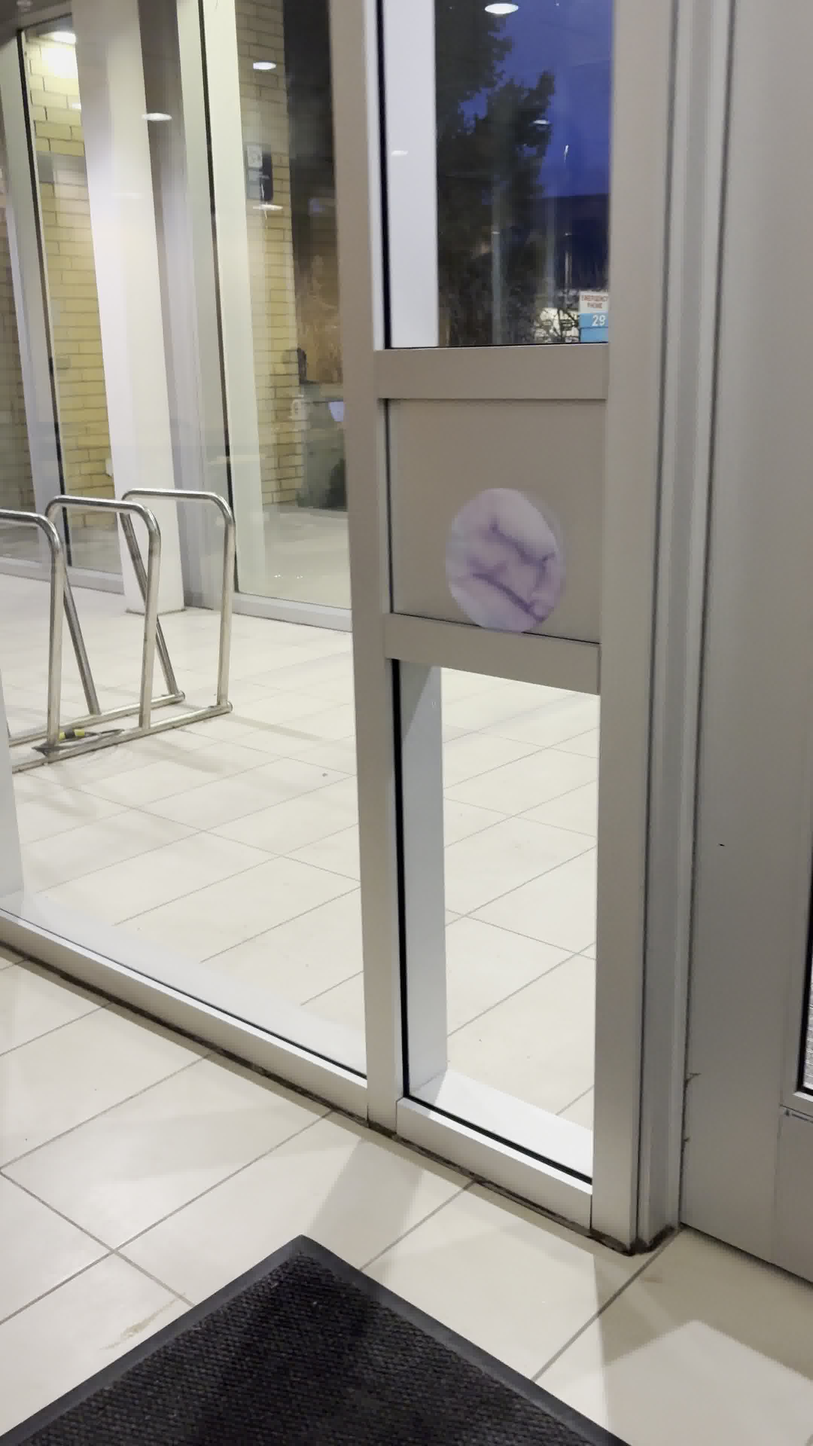Target: (442, 485, 566, 637)
